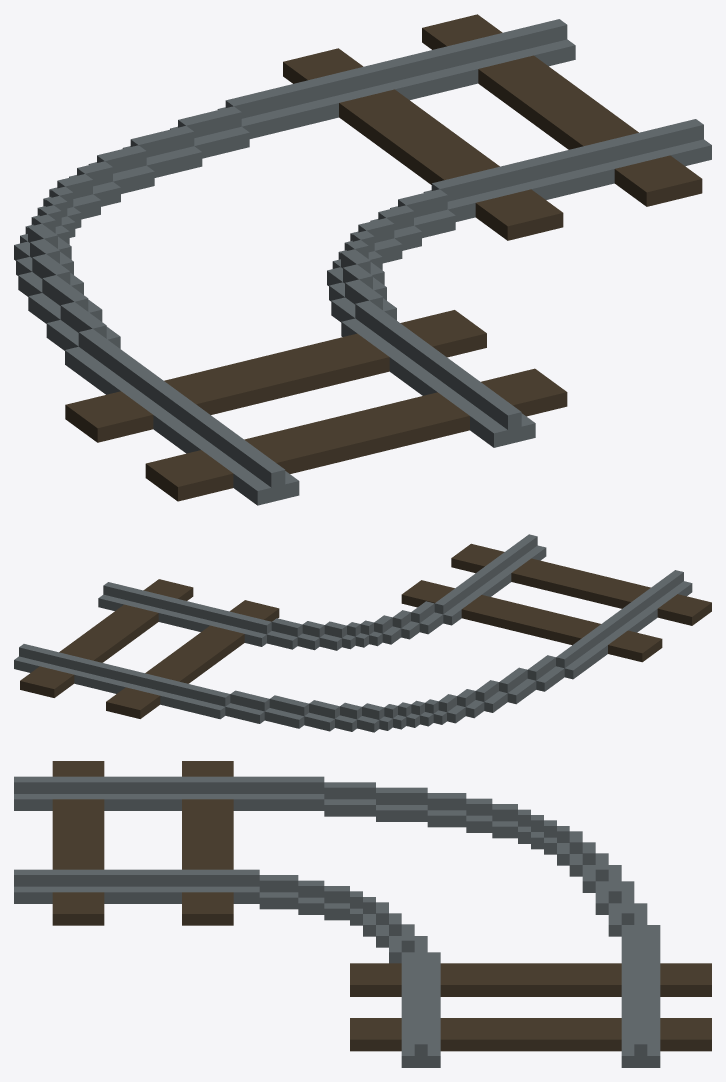
The model's file is railway_turn.obj.
3 renders of one model, top to bottom at view 1: azimuth 30°, elevation 25°; view 2: azimuth 150°, elevation 25°; view 3: azimuth 270°, elevation 25°, orthographic. The views are drawn at different scales.
Bounding box in the file's own units: 5.4 × 0.2 × 5.4.
1 material, 1 textured.
